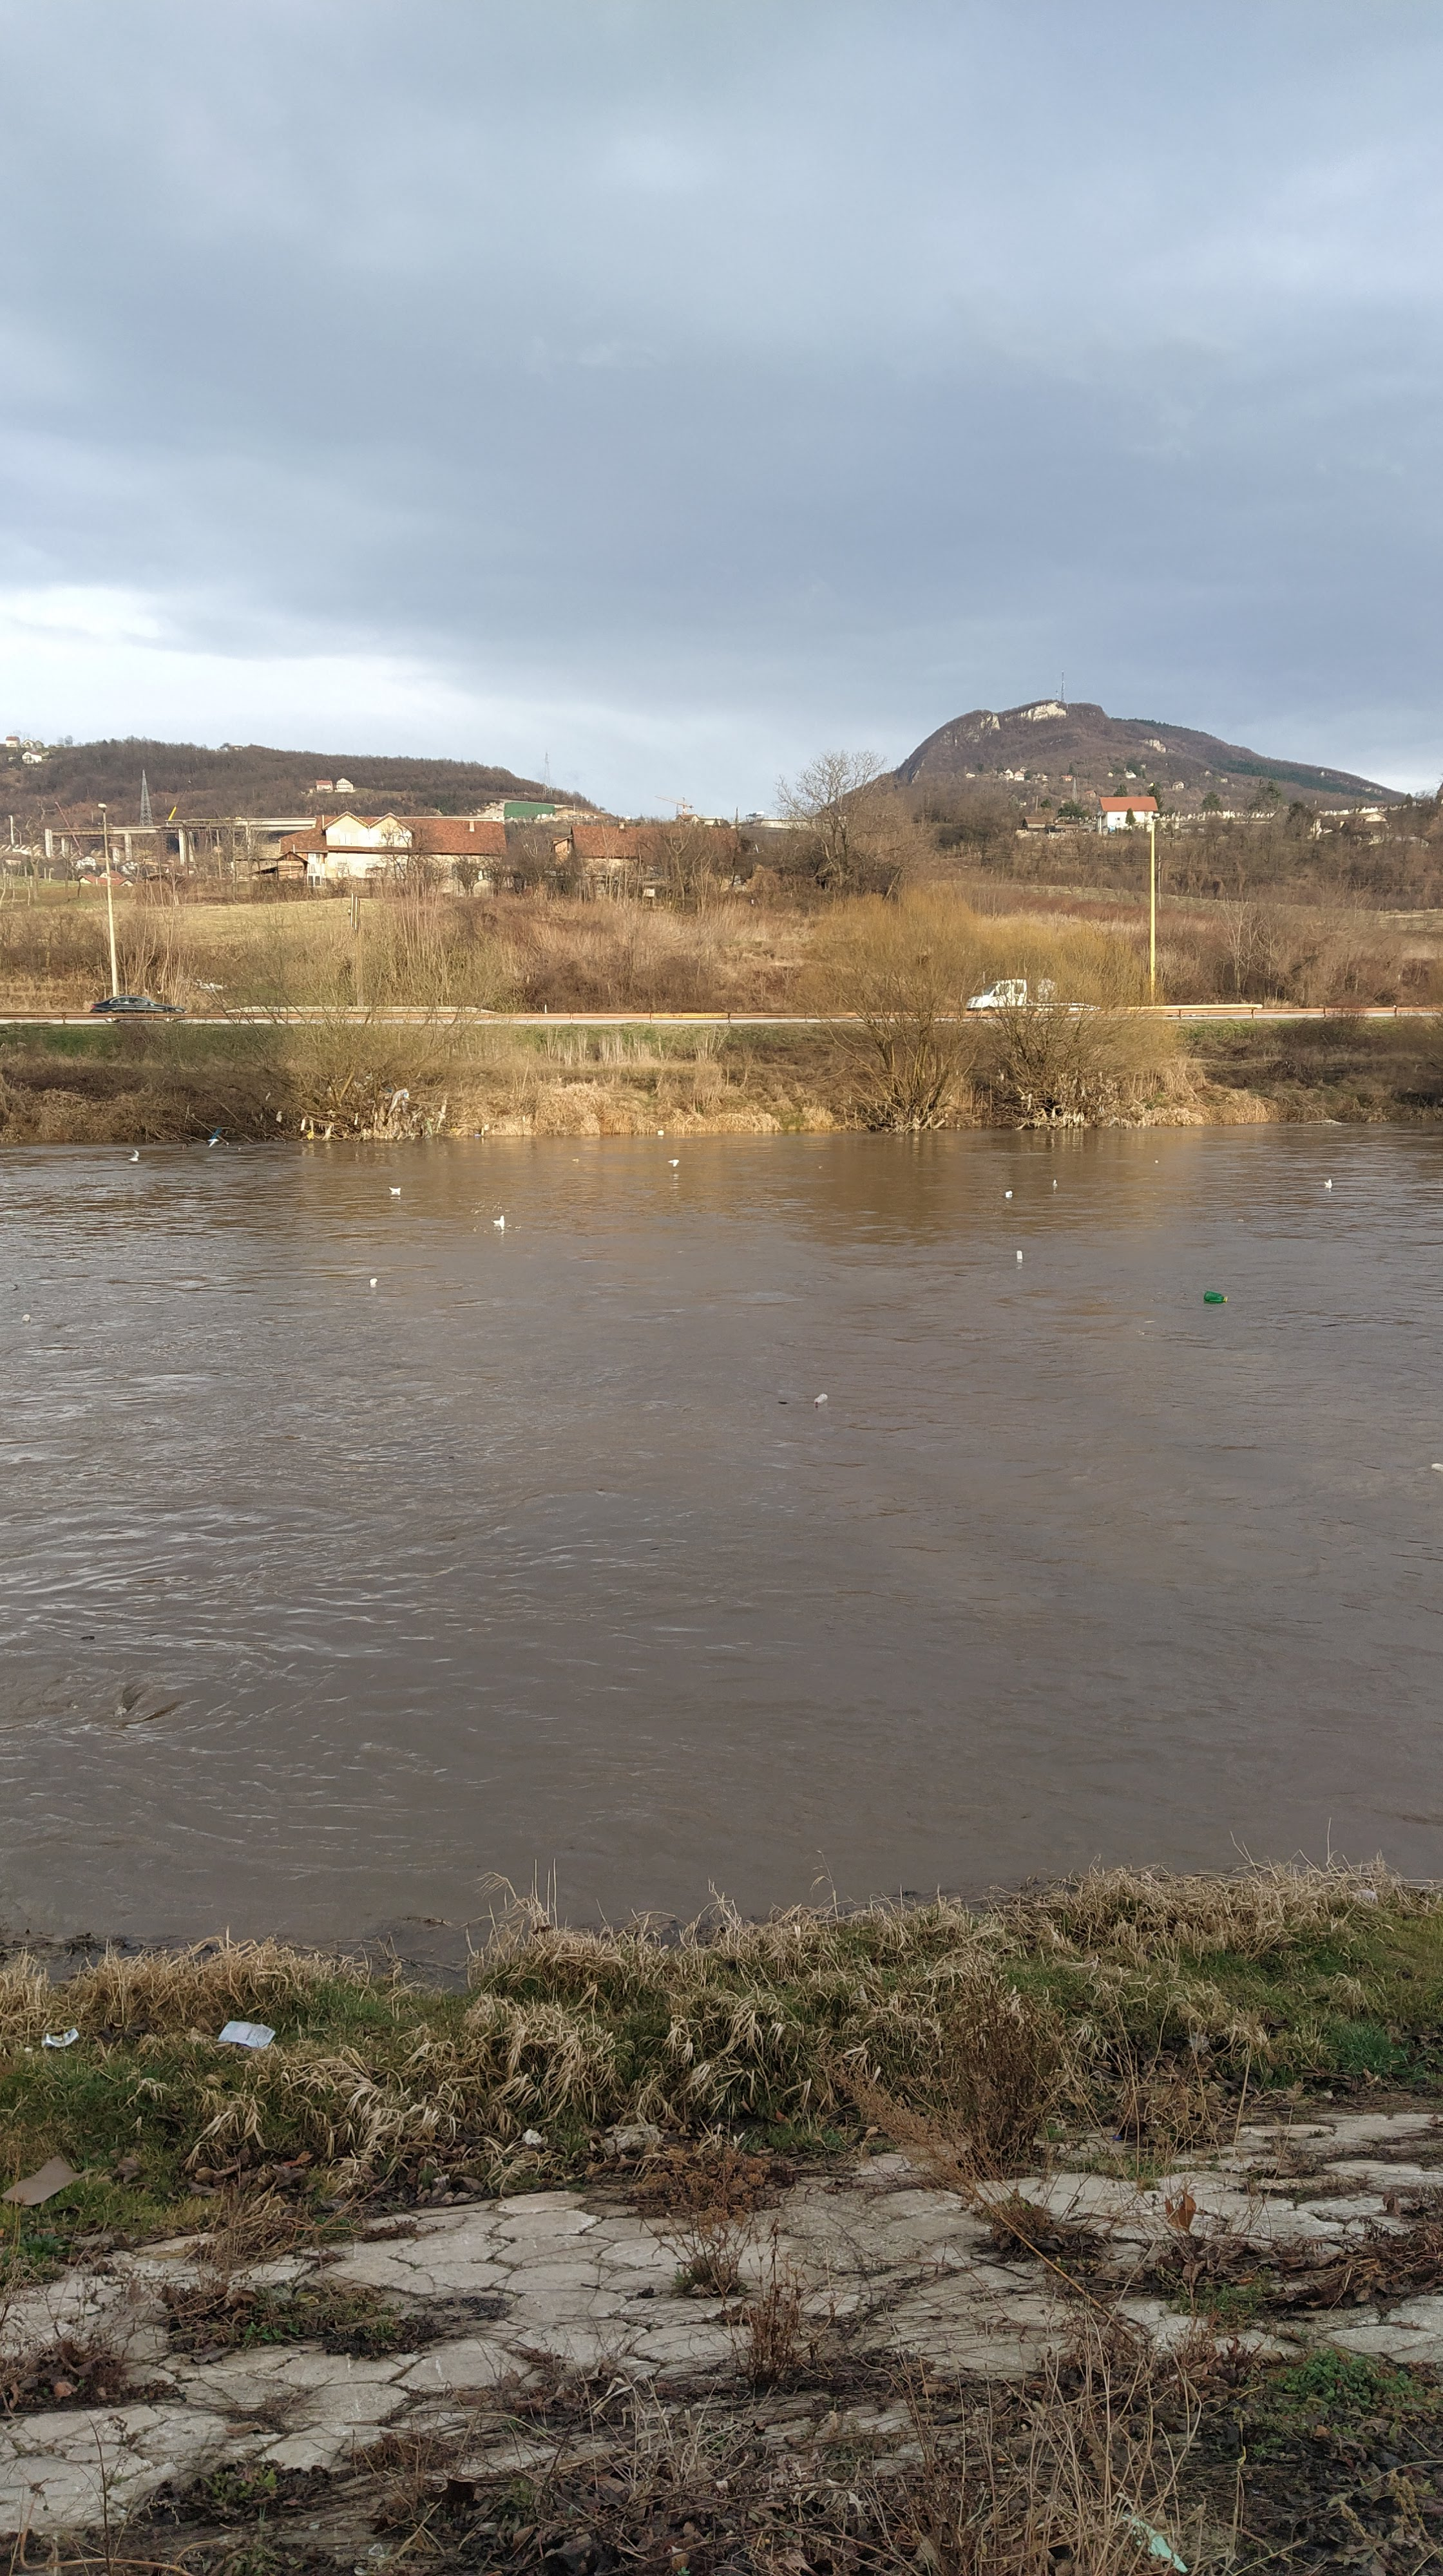Plastic Bottle: (1204, 1292, 1227, 1302), (814, 1392, 827, 1407), (1431, 1463, 1443, 1472), (21, 1315, 30, 1322), (368, 1277, 377, 1284), (1016, 1251, 1022, 1260)
